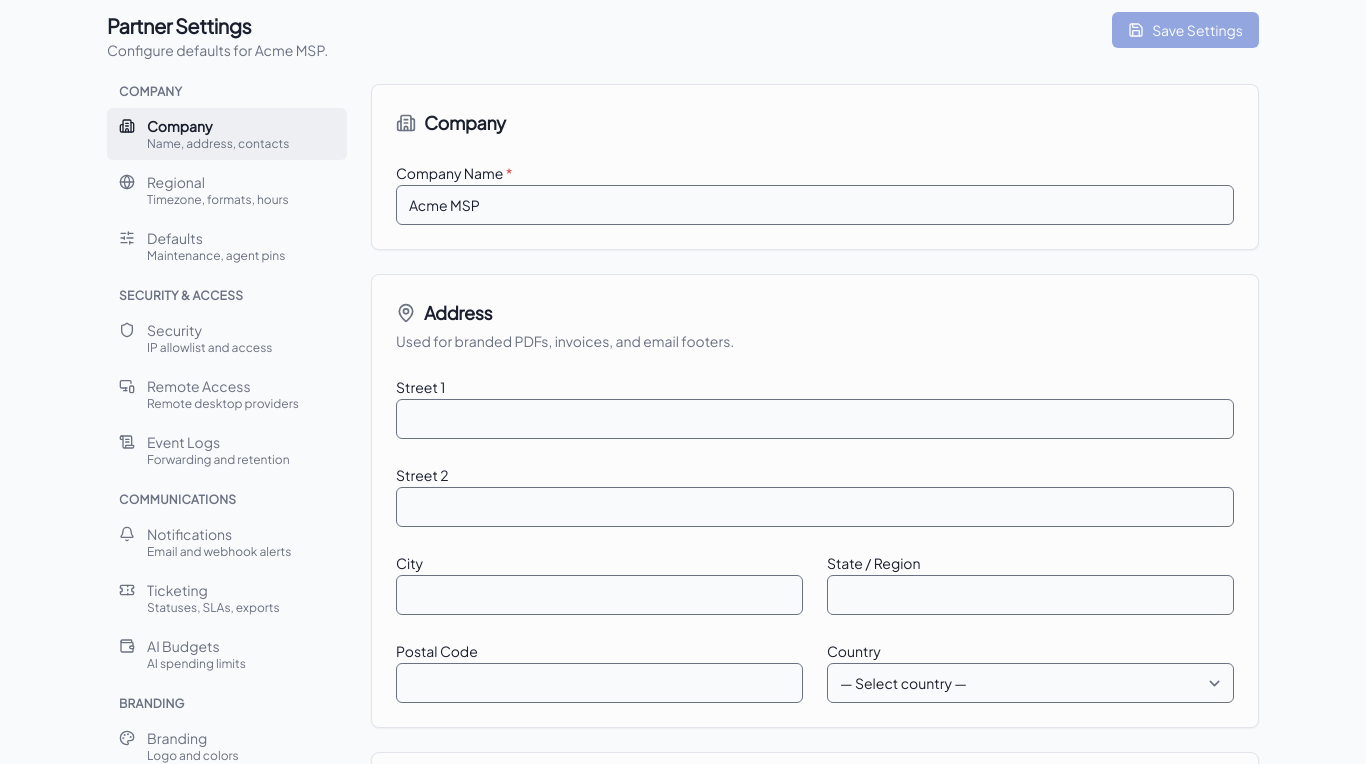
PartnerSettingsPage language control › renders an active selector with exactly the supported locales
expect the heading "Partner Settings" is shown: met, box [107,13,251,38]
Click the link "Regional Timezone, formats, hours".
click(204, 190)  # box [119,173,289,207]
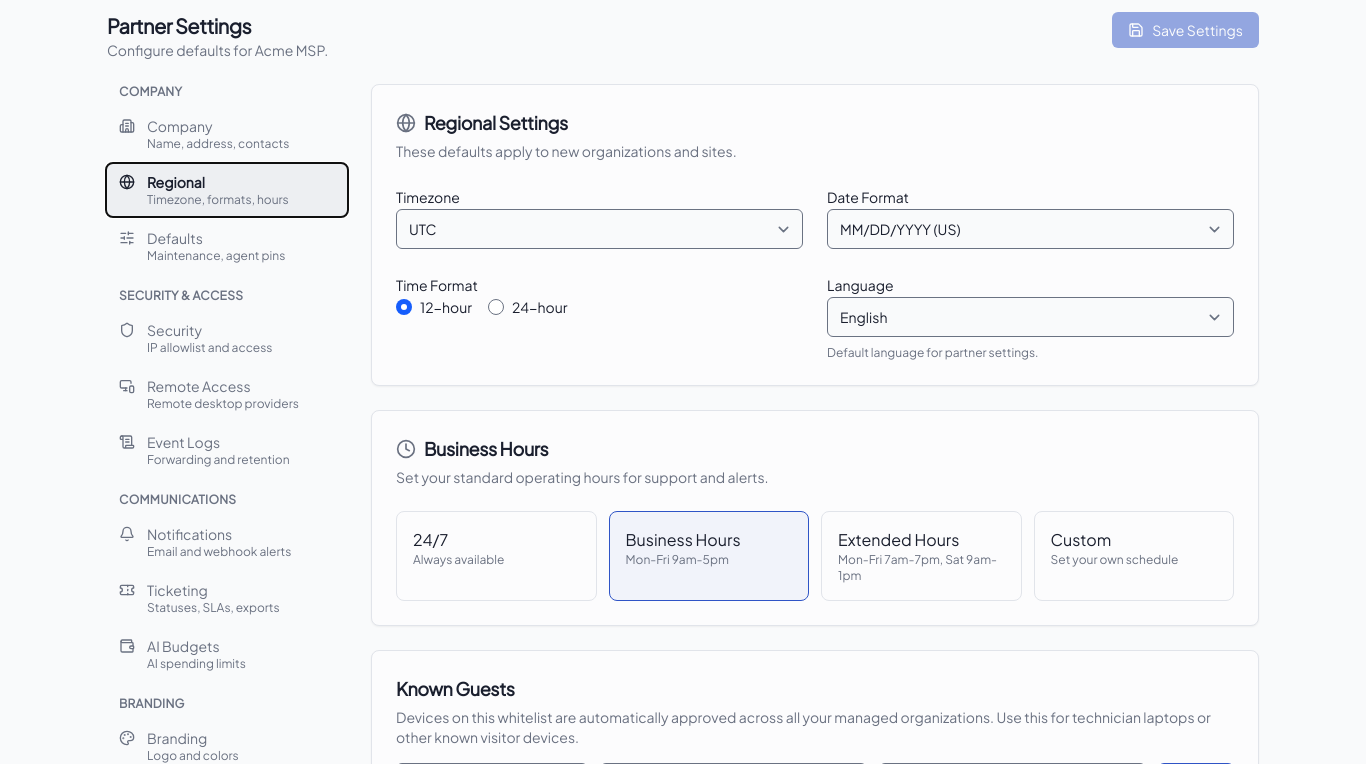
expect the dropdown labelled "Language" shows "English": met, box [827,297,1234,337]
expect the text "Default language for partner settings." is shown: met, box [827,345,1038,360]
